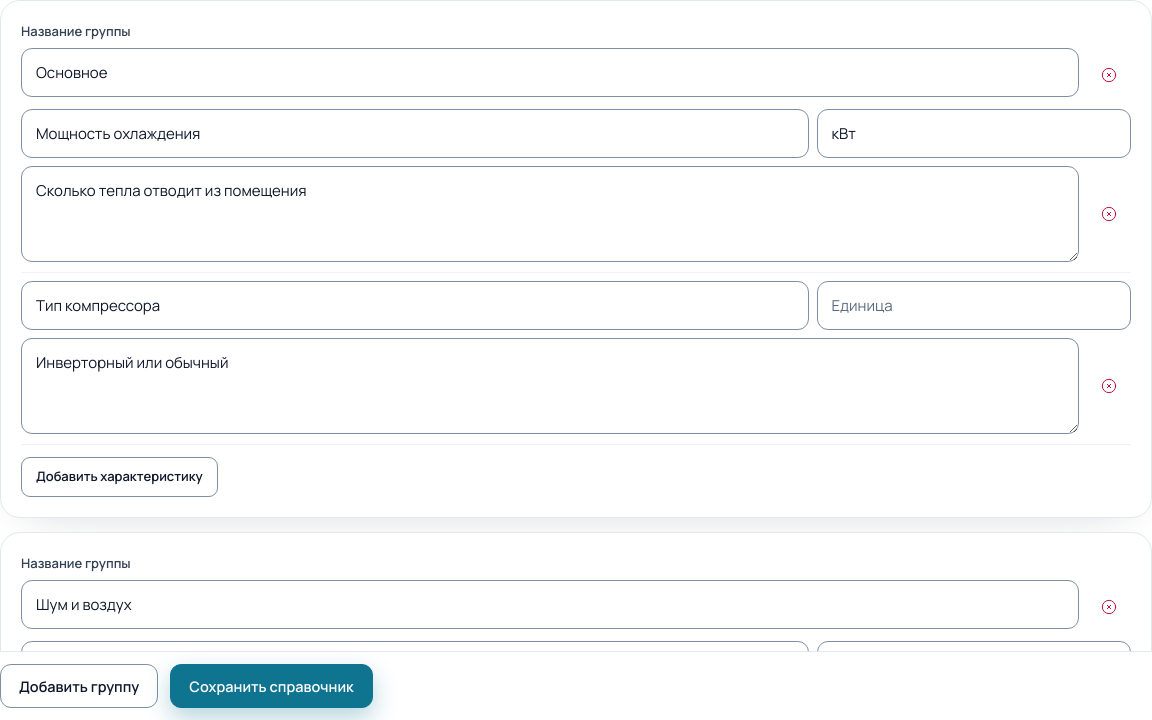
Test case: Справочник характеристик › удаляет характеристику из группы
Step 1. Click the button named "Удалить характеристику 1" → (1109, 214), box [1087,192,1131,236]
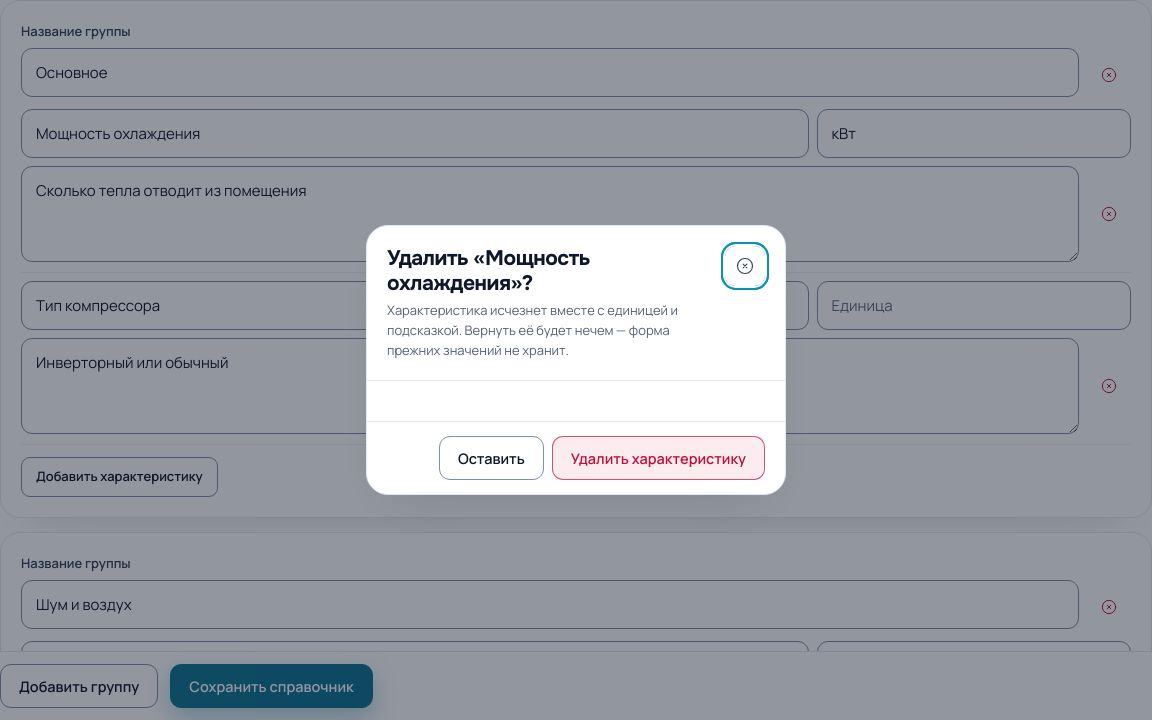
Step 2. Click the button "Удалить характеристику" → (658, 458), box [552,436,765,480]
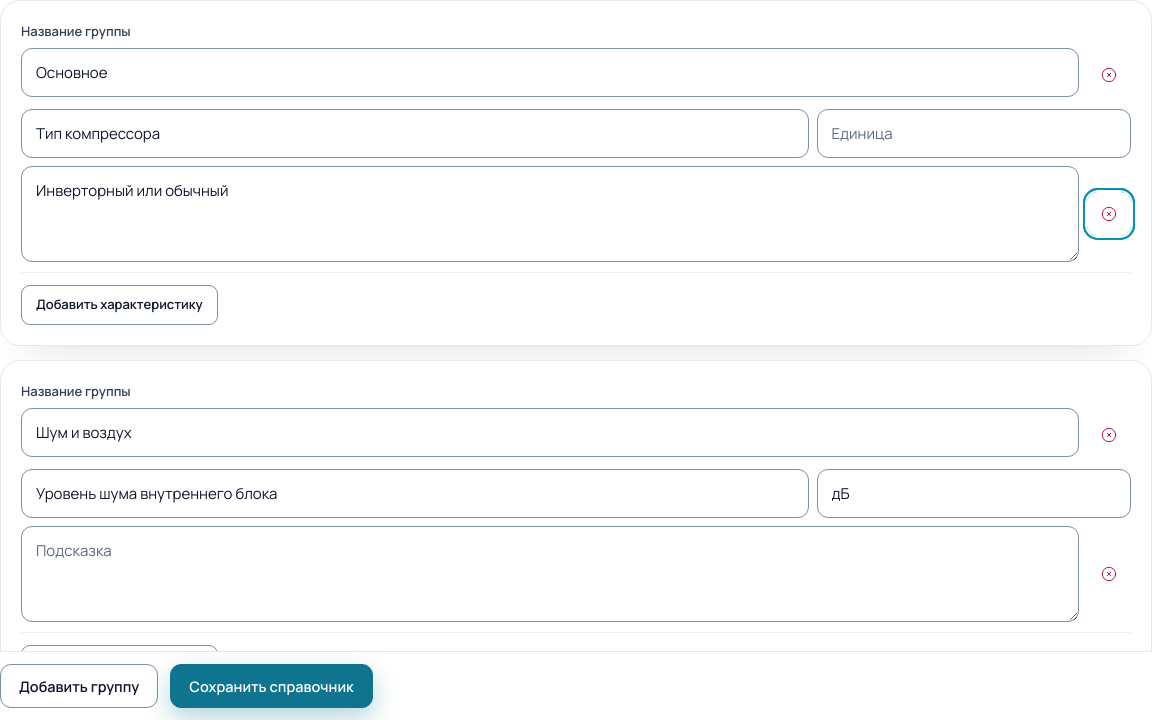
Check: the heading showing "Мощность охлаждения" is gone
